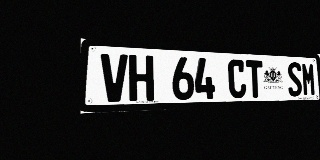4: (194, 58, 215, 99)
6: (172, 57, 194, 100)
C: (228, 59, 247, 98)
H: (129, 55, 154, 101)
M: (301, 62, 316, 96)
S: (287, 62, 303, 97)
T: (246, 60, 264, 98)
V: (101, 53, 128, 102)
